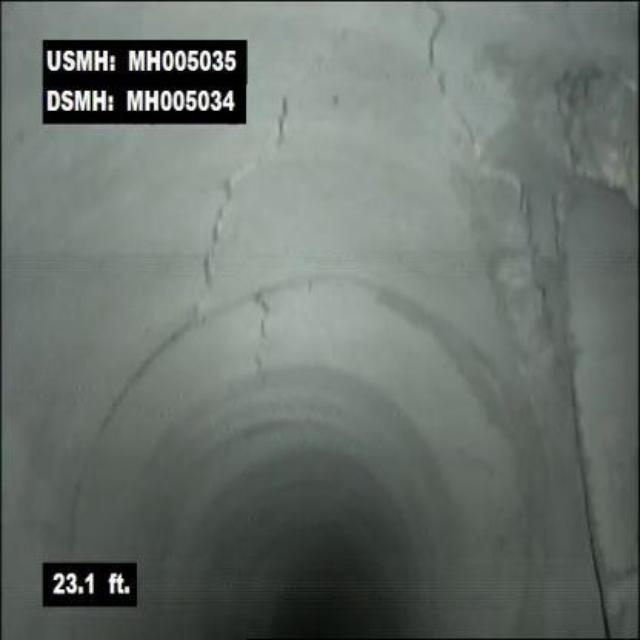Crack: (175, 125, 289, 286), (405, 0, 480, 155), (272, 11, 377, 120), (240, 291, 274, 378)
